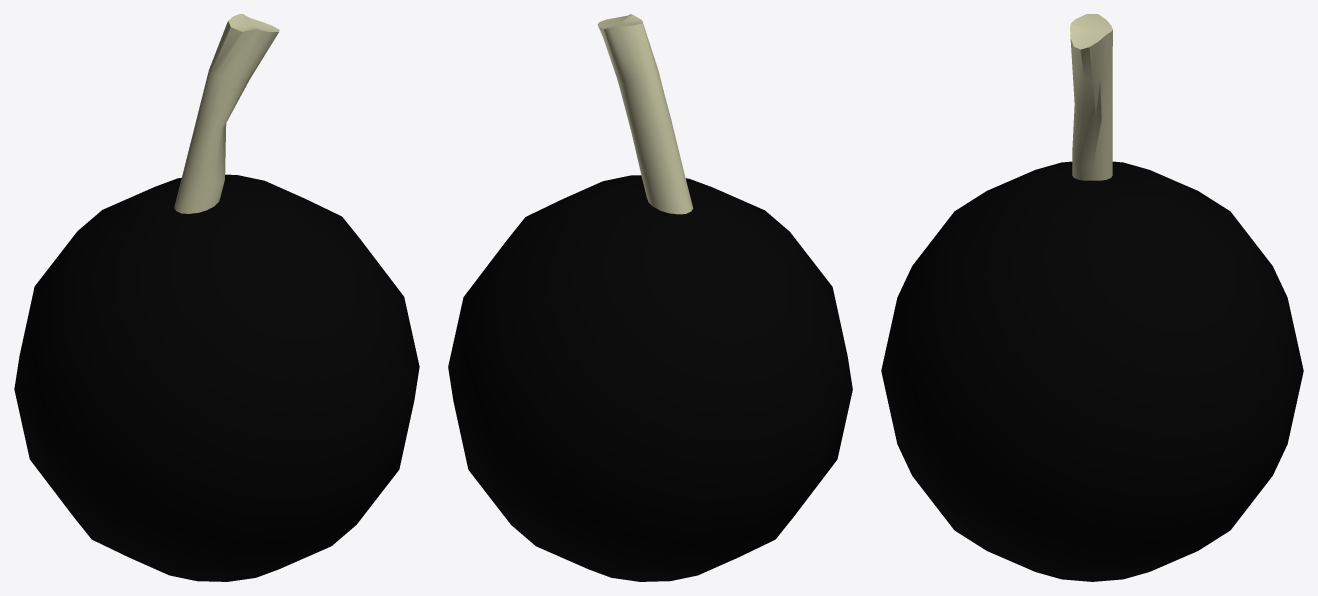
Rendered from bomb.glb.
The picture shows the model from 3 angles, left to right: view 1: azimuth 30°, elevation 25°; view 2: azimuth 150°, elevation 25°; view 3: azimuth 270°, elevation 25°; orthographic projection. The views are drawn at different scales.
Parts seen in each view (by area): view 1: bomb-Mat.3, bomb-meche; view 2: bomb-Mat.3, bomb-meche; view 3: bomb-Mat.3, bomb-meche.
Part boxes in pixels (x1,y1,x2,y2): bomb-Mat.3: (14,174,419,581); bomb-meche: (174,14,279,213); bomb-Mat.3: (448,175,852,581); bomb-meche: (597,14,693,214); bomb-Mat.3: (881,161,1303,581); bomb-meche: (1070,14,1112,180).
Bounding box in the file's own units: 2 × 2.9 × 2.
